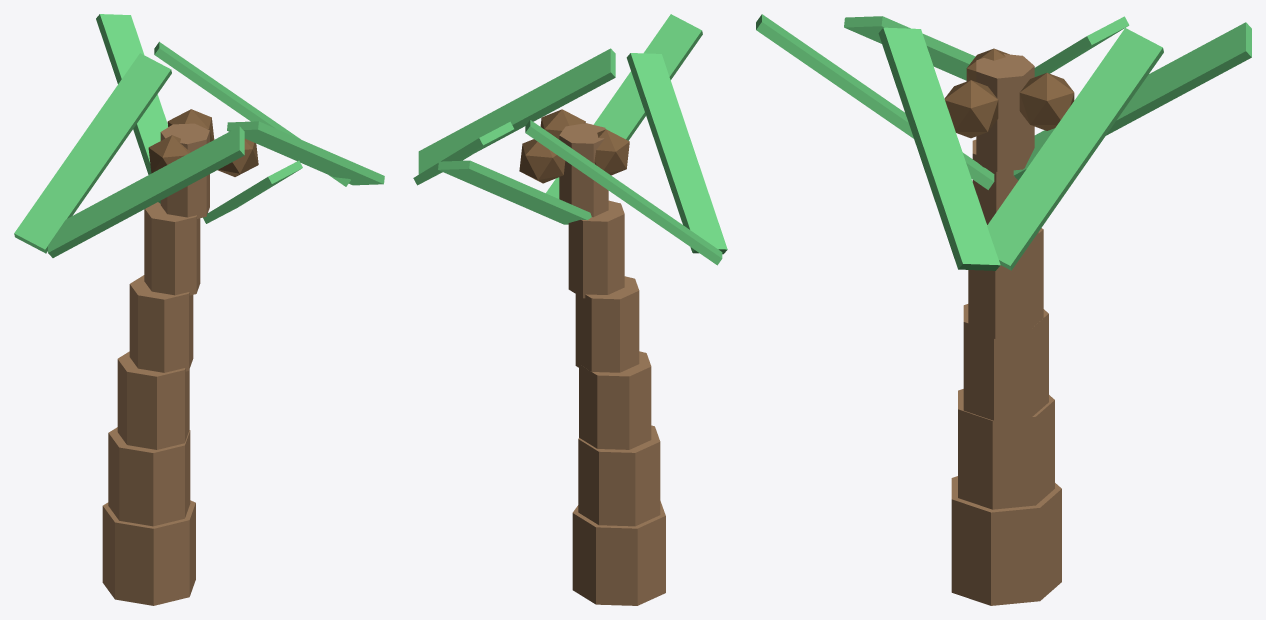
Rendered from PalmTree.fbx.
The picture shows the model from 3 angles, left to right: view 1: azimuth 30°, elevation 25°; view 2: azimuth 150°, elevation 25°; view 3: azimuth 270°, elevation 25°; orthographic projection. The views are drawn at different scales.
Visible parts, largest first — view 1: PalmTree; view 2: PalmTree; view 3: PalmTree.
Boxes of the visible parts, x1,y1,x2,y2 form: PalmTree: (14, 14, 384, 605); PalmTree: (413, 14, 727, 605); PalmTree: (756, 14, 1251, 605).
Bounding box in the file's own units: 366 × 505 × 385.
